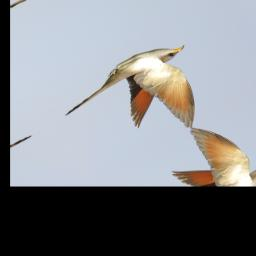Cuckoo: (56, 32, 229, 176)
